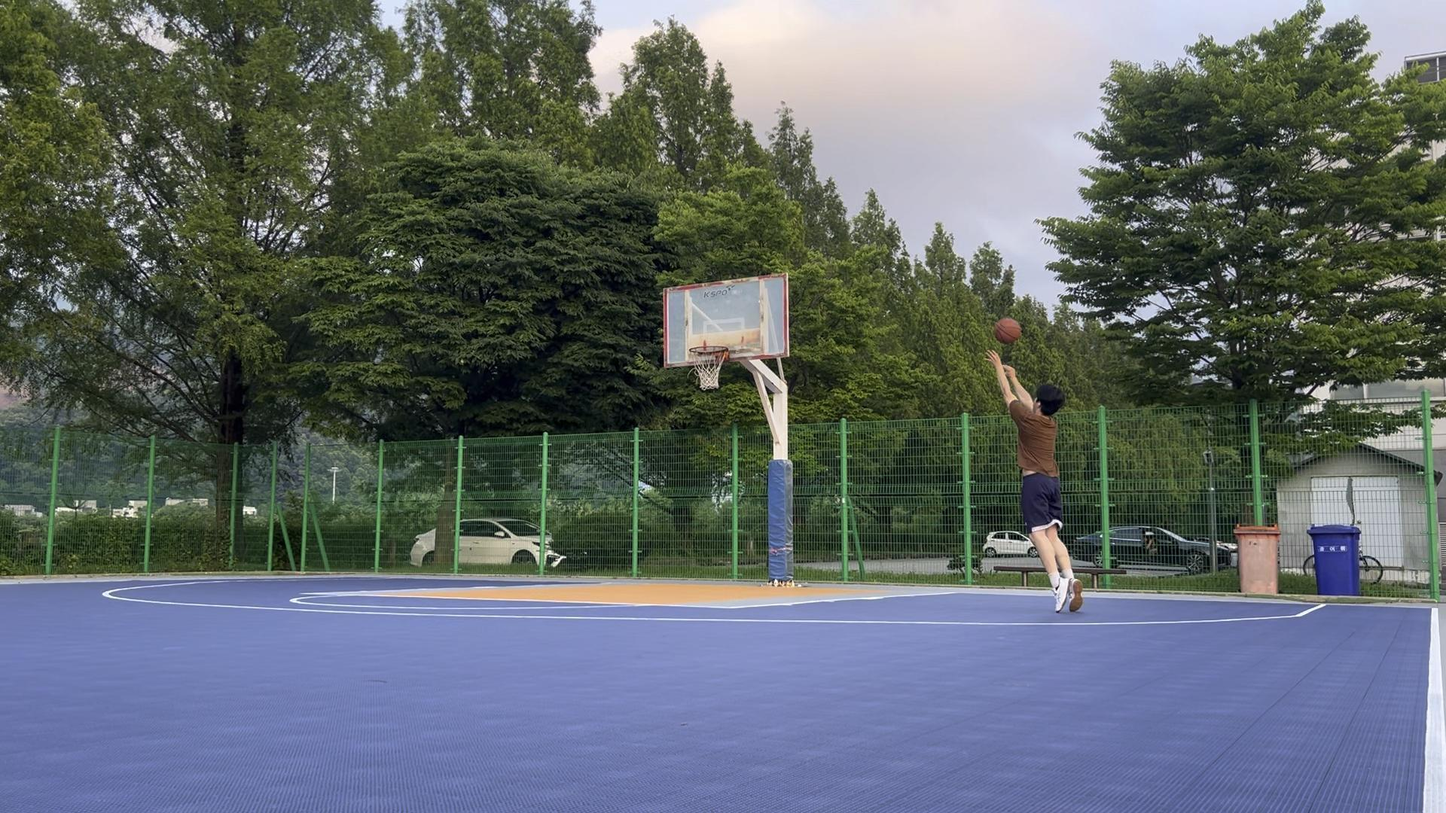ball: (993, 318, 1023, 346)
human: (982, 349, 1084, 615)
rim: (688, 346, 729, 391)
